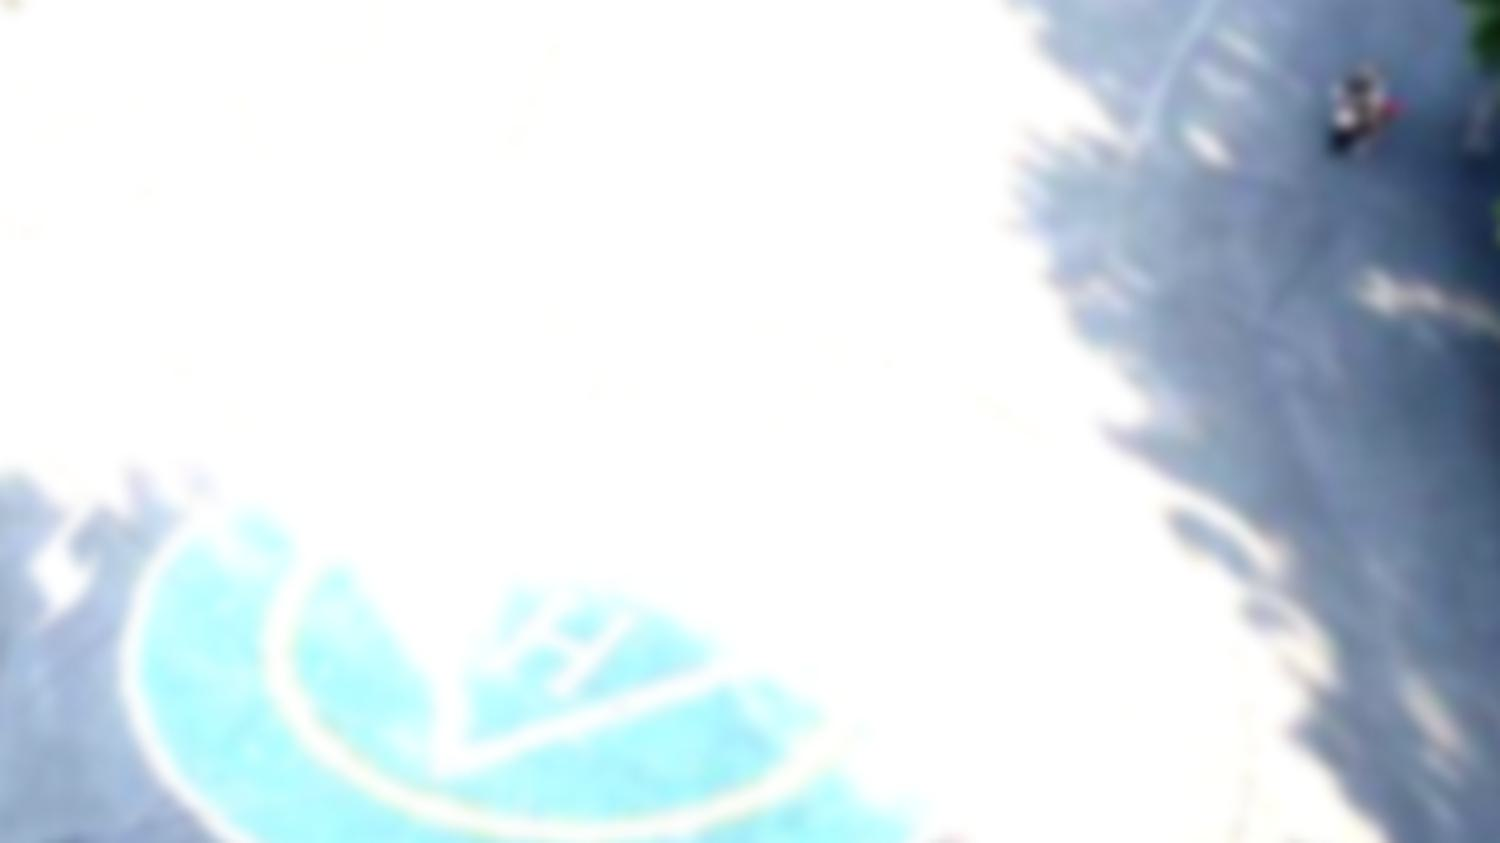Apron: (259, 487, 856, 843)
